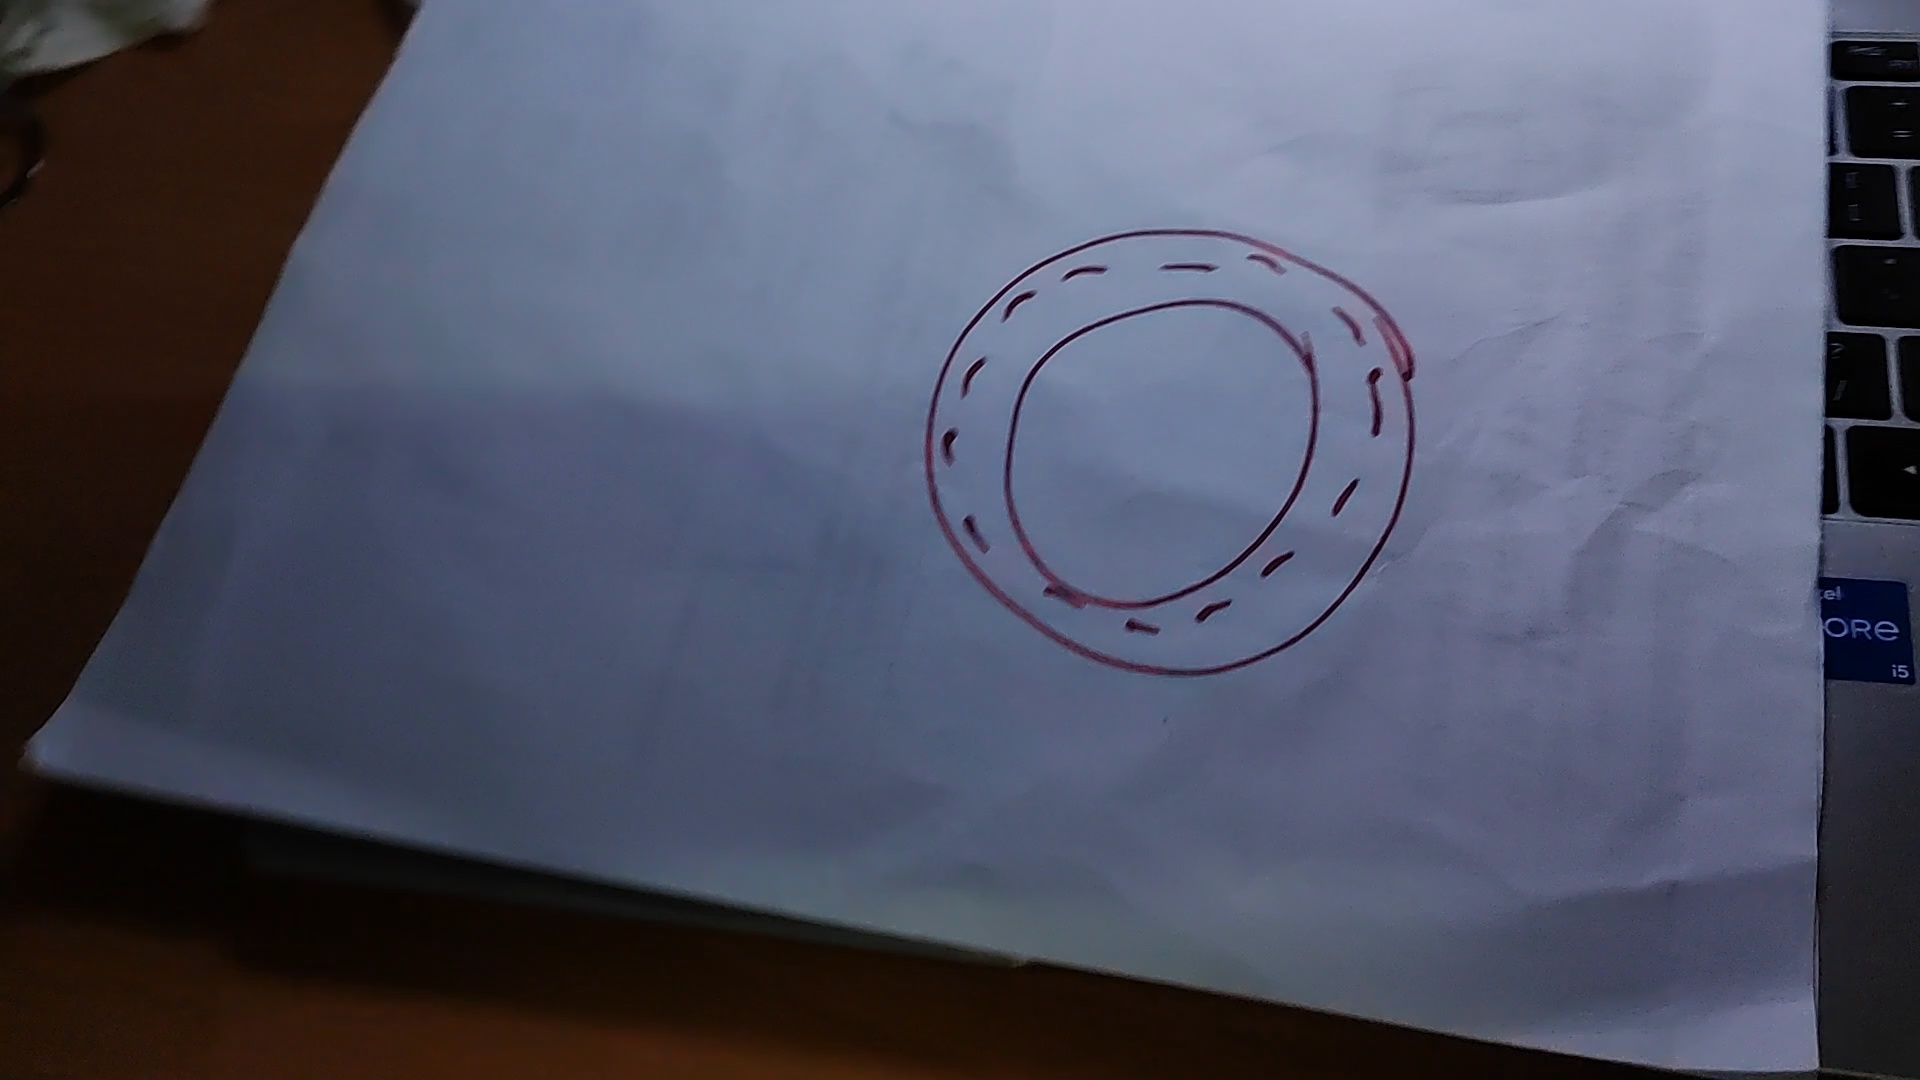circle: (926, 229, 1414, 678)
